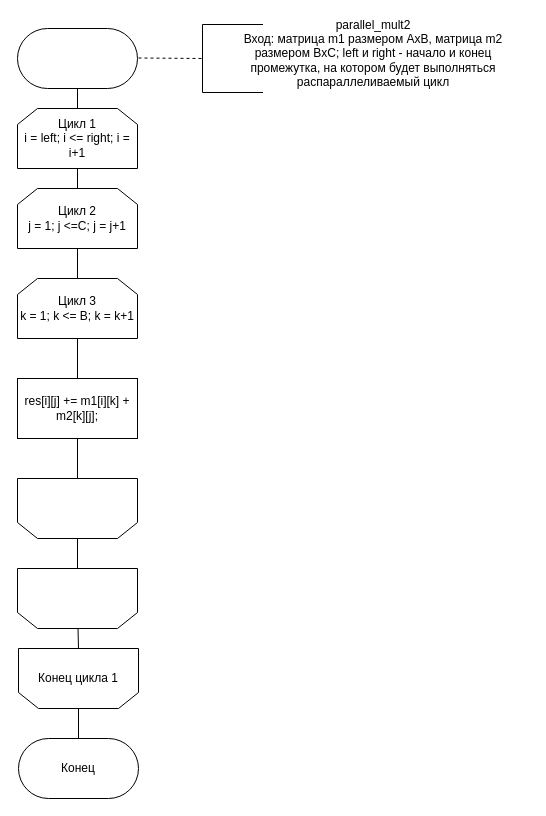
The diagram is 546 pixels wide and 816 high, and some of its shapes have lost their labels. Here are the shapes that lost their labels. From the top down, the centre of each, then its label:
point 77,58: Начало
point 77,508: Конец цикла 3
point 77,598: Конец цикла 2
